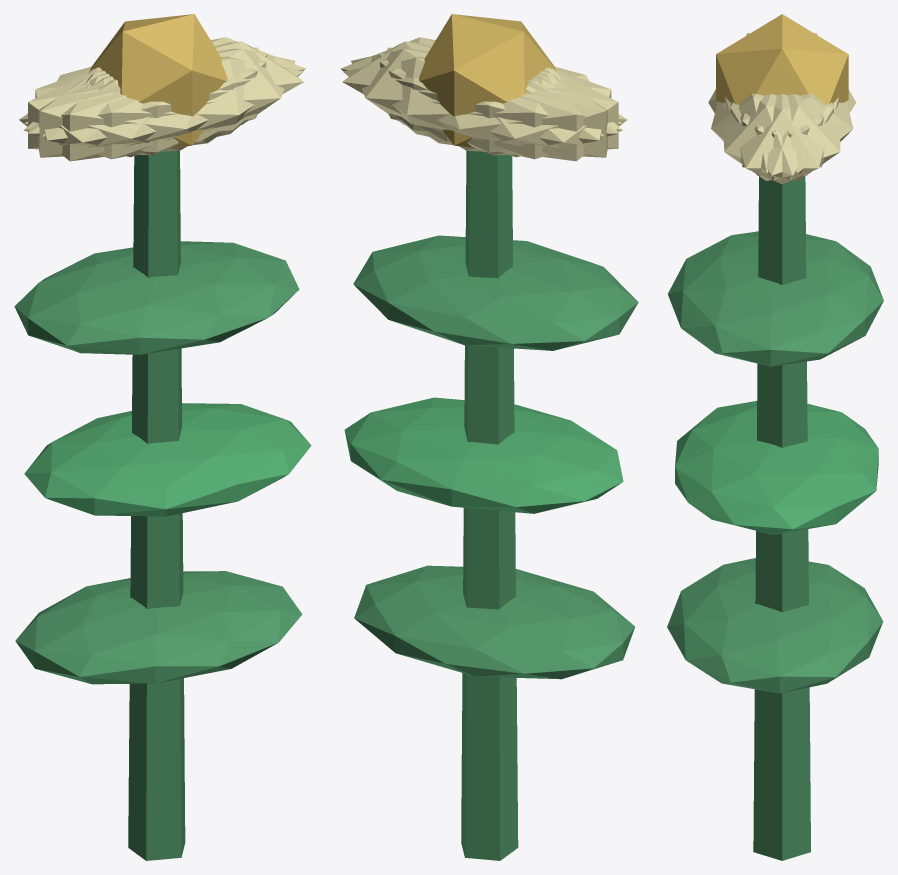
Rendered from justicia-procumbens.glb.
The picture shows the model from 3 angles, left to right: view 1: azimuth 30°, elevation 25°; view 2: azimuth 150°, elevation 25°; view 3: azimuth 270°, elevation 25°; orthographic projection.
Visible parts, largest first — view 1: stem, leaf2, leaf0, leaf1, center, petal1, petal6, petal2, petal5, petal7, petal0, petal4 (+2 smaller); view 2: stem, leaf2, leaf1, leaf0, center, petal8, petal3, petal7, petal4, petal2, petal0, petal5 (+2 smaller); view 3: stem, leaf2, leaf1, leaf0, center, petal0, petal4, petal5, petal8, petal1.
Part boxes in pixels (bbox=[...]): stem: bbox=[128, 150, 185, 860]; leaf2: bbox=[14, 241, 299, 354]; leaf0: bbox=[15, 571, 302, 684]; leaf1: bbox=[24, 403, 311, 516]; center: bbox=[89, 14, 227, 147]; petal1: bbox=[23, 56, 303, 159]; petal6: bbox=[19, 69, 221, 161]; petal2: bbox=[38, 47, 258, 157]; petal5: bbox=[42, 48, 295, 152]; petal7: bbox=[28, 53, 266, 155]; petal0: bbox=[89, 41, 303, 142]; petal4: bbox=[24, 37, 305, 133]; stem: bbox=[461, 150, 518, 860]; leaf2: bbox=[353, 235, 638, 350]; leaf1: bbox=[344, 397, 623, 513]; leaf0: bbox=[354, 565, 634, 679]; center: bbox=[419, 14, 556, 147]; petal8: bbox=[343, 56, 622, 159]; petal3: bbox=[424, 69, 627, 161]; petal7: bbox=[387, 47, 607, 157]; petal4: bbox=[351, 48, 603, 152]; petal2: bbox=[379, 53, 618, 155]; petal0: bbox=[342, 41, 556, 142]; petal5: bbox=[340, 37, 621, 133]; stem: bbox=[753, 176, 810, 860]; leaf2: bbox=[668, 231, 883, 366]; leaf1: bbox=[675, 401, 878, 534]; leaf0: bbox=[667, 558, 883, 693]; center: bbox=[716, 14, 848, 104]; petal0: bbox=[725, 94, 838, 184]; petal4: bbox=[730, 94, 840, 180]; petal5: bbox=[723, 94, 833, 180]; petal8: bbox=[740, 93, 853, 173]; petal1: bbox=[711, 93, 824, 173].
Bounding box in the file's own units: 0.1452 × 0.4162 × 0.1002.
